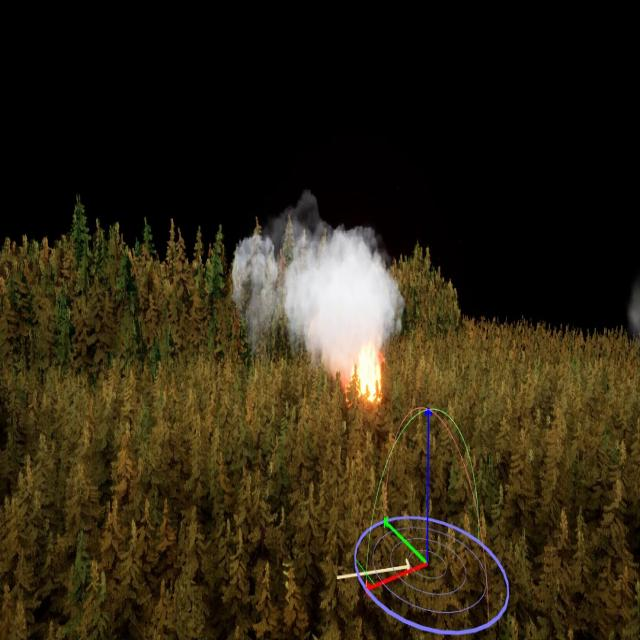fire: (348, 342, 390, 406)
smoke: (232, 184, 402, 388)
